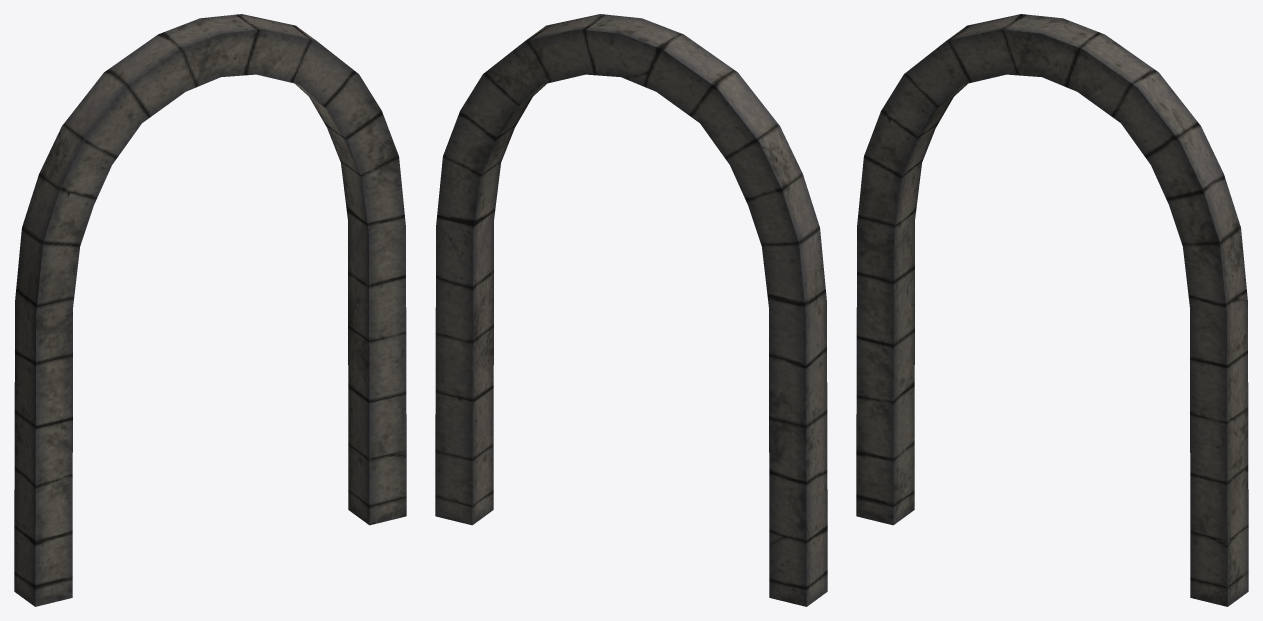
The model's file is sb_obj_outdoor002_DemonsCastle01_door01.fbx.
3 views of the same model, side by side, from view 1: azimuth 30°, elevation 25°; view 2: azimuth 150°, elevation 25°; view 3: azimuth 330°, elevation 25° (orthographic).
Parts seen in each view (by area): view 1: sb_obj_outdoor002_DemonsCastle01_door01; view 2: sb_obj_outdoor002_DemonsCastle01_door01; view 3: sb_obj_outdoor002_DemonsCastle01_door01.
Boxes of the visible parts, x1,y1,x2,y2 form: sb_obj_outdoor002_DemonsCastle01_door01: [14, 14, 406, 606]; sb_obj_outdoor002_DemonsCastle01_door01: [435, 14, 827, 606]; sb_obj_outdoor002_DemonsCastle01_door01: [856, 14, 1248, 606].
Size of the model in its own units: 2.44 by 3.31 by 0.2394.
